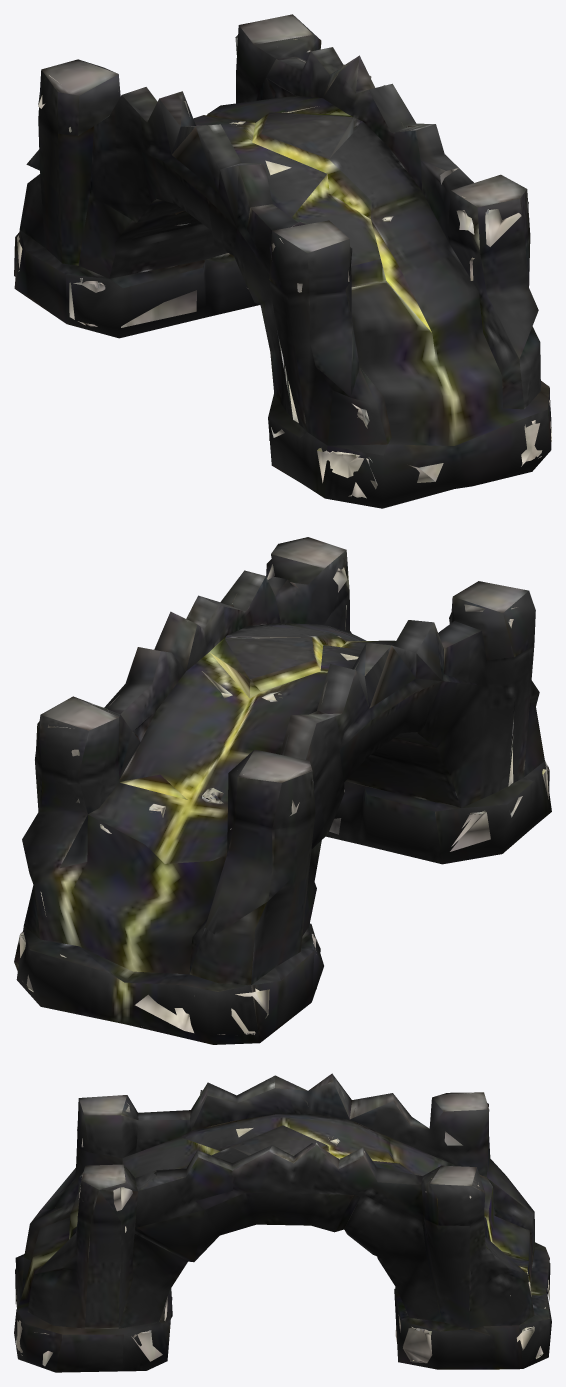
The model's file is lg-lava-bridge.glb.
3 views of the same model, one above another, from view 1: azimuth 30°, elevation 25°; view 2: azimuth 150°, elevation 25°; view 3: azimuth 270°, elevation 25° (orthographic). The views are drawn at different scales.
Visible parts, largest first — view 1: geometry_0; view 2: geometry_0; view 3: geometry_0.
Boxes of the visible parts, box(x1,y1,x2,y2) form: geometry_0: box(14, 14, 551, 508); geometry_0: box(14, 537, 551, 1044); geometry_0: box(14, 1073, 551, 1372).
Size of the model in its own units: 0.4452 by 0.452 by 1.
1 material, 1 textured.
